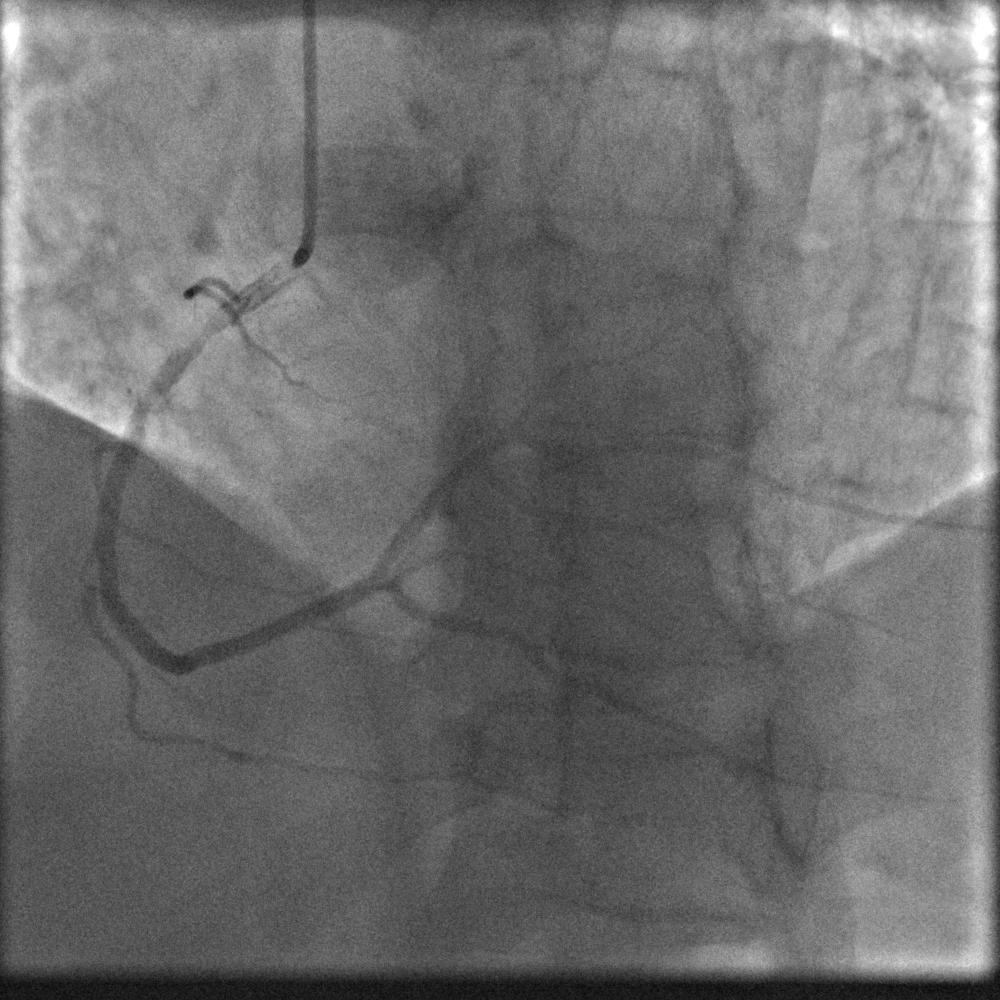Stenosis: (177, 310, 219, 373)
